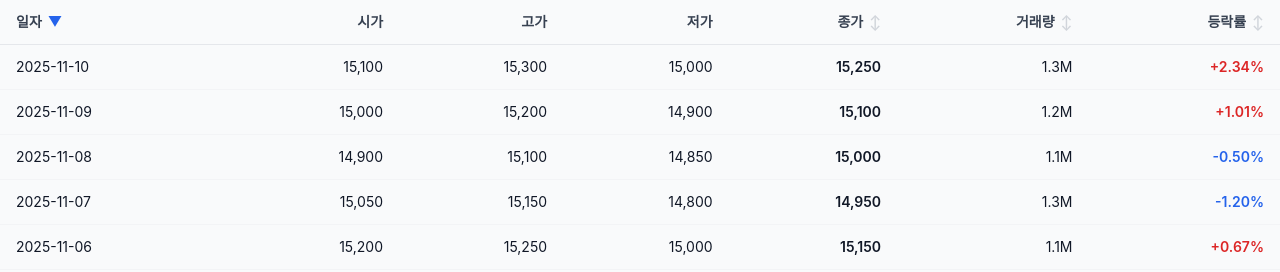
PriceTable › 정렬 기능 › 거래량 기준으로 정렬이 가능하다
Note: 거래량 클릭 (오름차순)
Click the column heading "거래량".
click(1035, 22)  # box [897,0,1088,44]
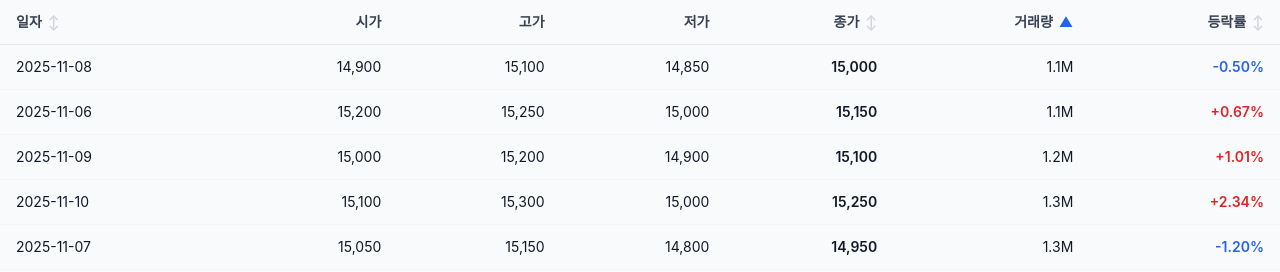
Check: the text "1.1M" in the row of "2025-11-08" is shown, box [1046,58,1073,75]
